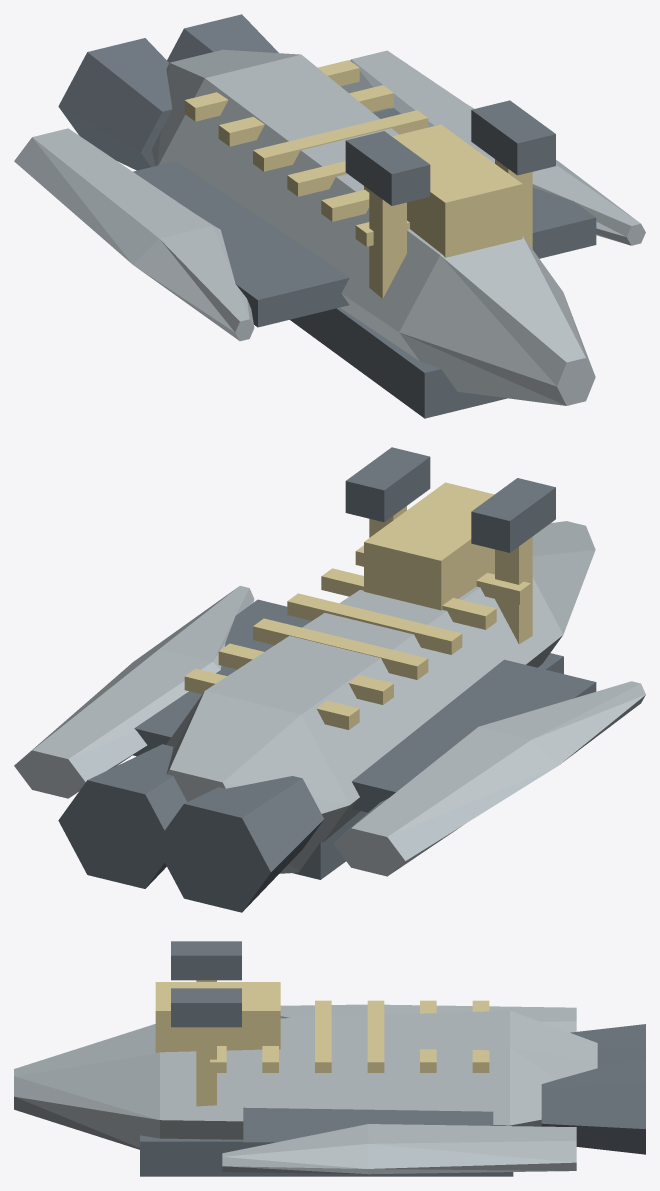
The picture shows the model from 3 angles, top to bottom: view 1: azimuth 30°, elevation 25°; view 2: azimuth 150°, elevation 25°; view 3: azimuth 270°, elevation 25°; orthographic projection. The views are drawn at different scales.
Size of the model in its own units: 3.94 by 2.06 by 6.61.
